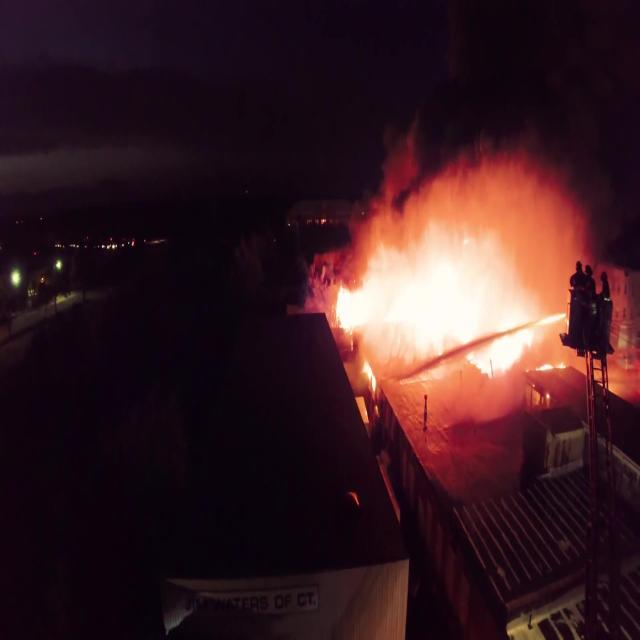Fire: (336, 225, 570, 394)
Smoke: (354, 124, 604, 226)
